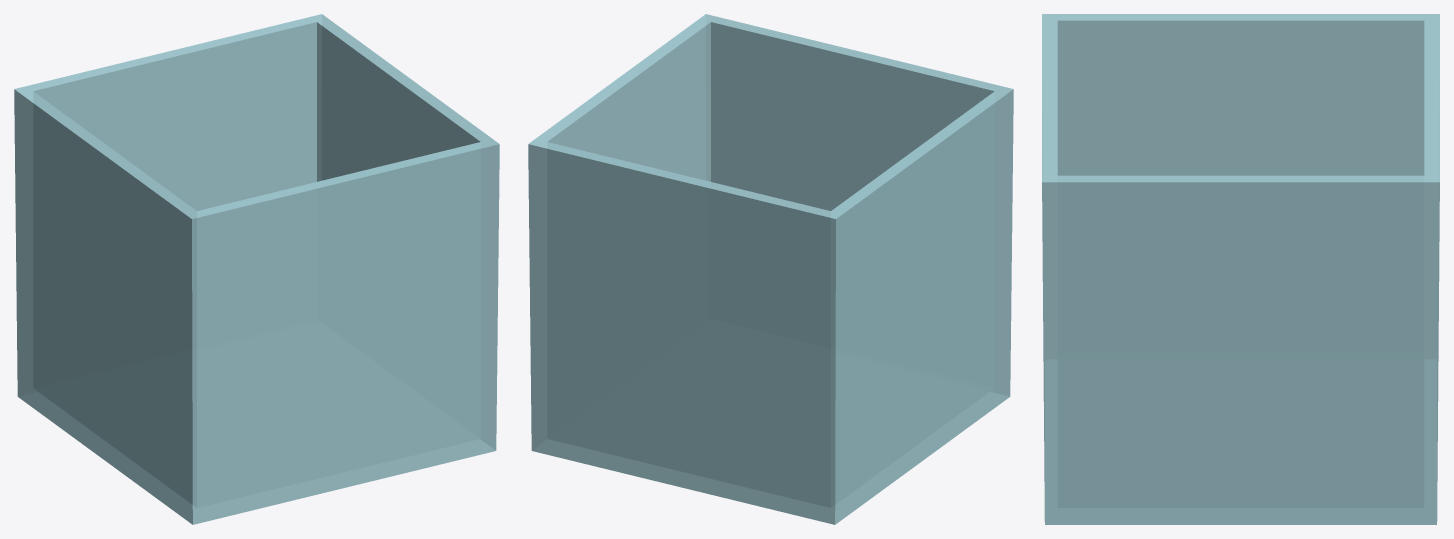
3 renders of one model, left to right at view 1: azimuth 30°, elevation 25°; view 2: azimuth 150°, elevation 25°; view 3: azimuth 270°, elevation 25°, orthographic. The views are drawn at different scales.
Parts seen in each view (by area): view 1: Cube; view 2: Cube; view 3: Cube.
Part boxes in pixels (<box>): Cube: <box>14,14,499,524</box>; Cube: <box>528,14,1013,524</box>; Cube: <box>1042,14,1439,524</box>.
Size of the model in its own units: 217 by 207 by 217.
